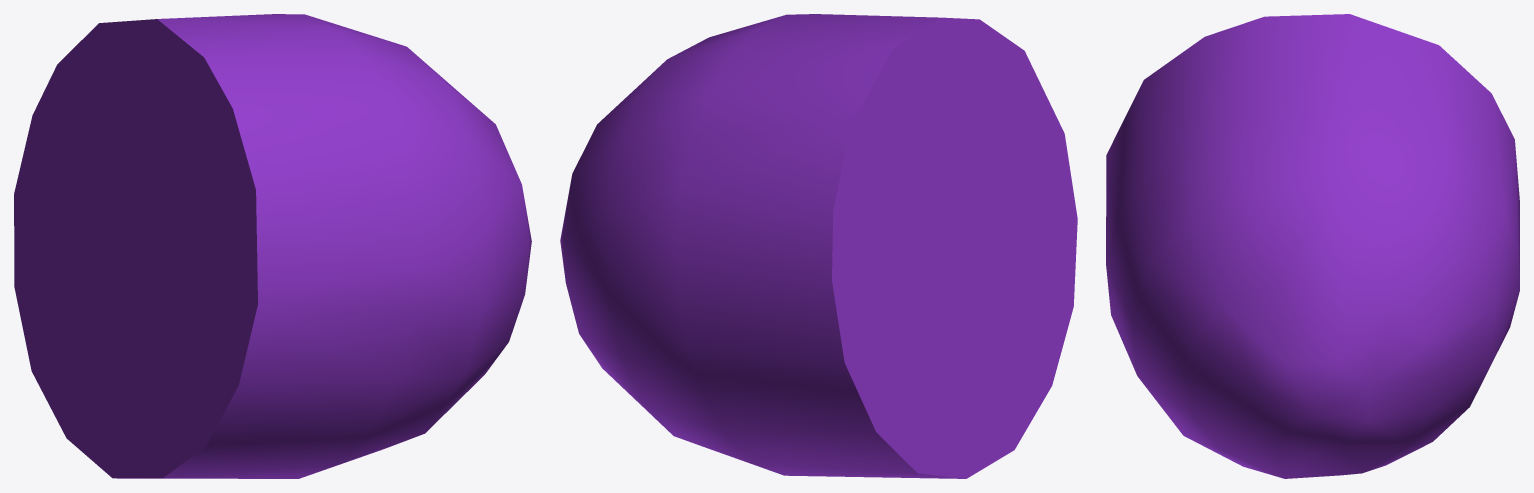
File: bala_insanium.obj
The picture shows the model from 3 angles, left to right: view 1: azimuth 30°, elevation 25°; view 2: azimuth 150°, elevation 25°; view 3: azimuth 270°, elevation 25°; orthographic projection. The views are drawn at different scales.
Size of the model in its own units: 0.0522 by 0.0536 by 0.0507.
